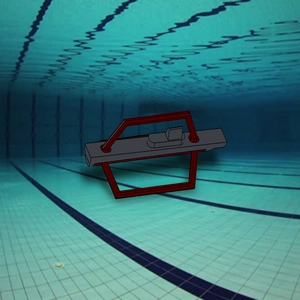submarine: (74, 100, 253, 219)
